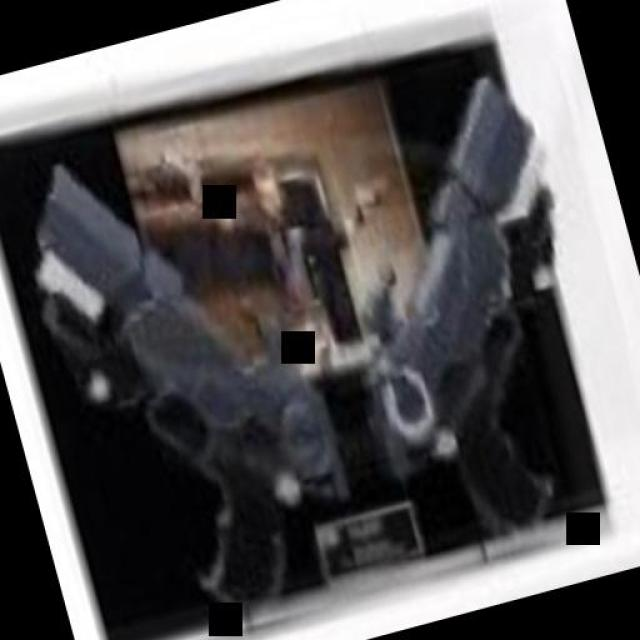gun: (6, 113, 369, 635), (314, 52, 628, 558)
